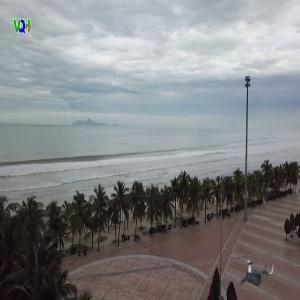drone: (236, 254, 277, 295)
